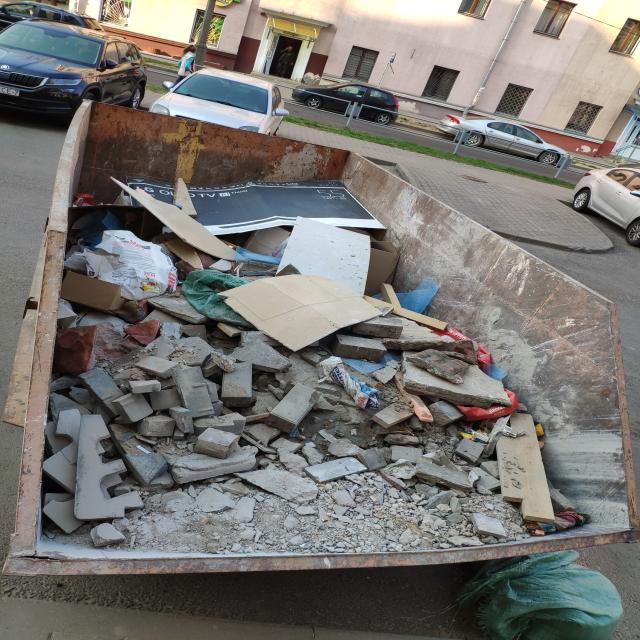entulho: (123, 176, 386, 237), (461, 549, 624, 639), (226, 273, 388, 352), (368, 354, 511, 437), (120, 180, 246, 264), (277, 216, 374, 301), (492, 410, 559, 524), (85, 228, 182, 302), (76, 194, 163, 248), (184, 265, 252, 325), (176, 368, 226, 426), (61, 270, 123, 313), (435, 322, 496, 364), (382, 276, 442, 314), (454, 386, 517, 422), (194, 426, 242, 459), (92, 520, 126, 548)
